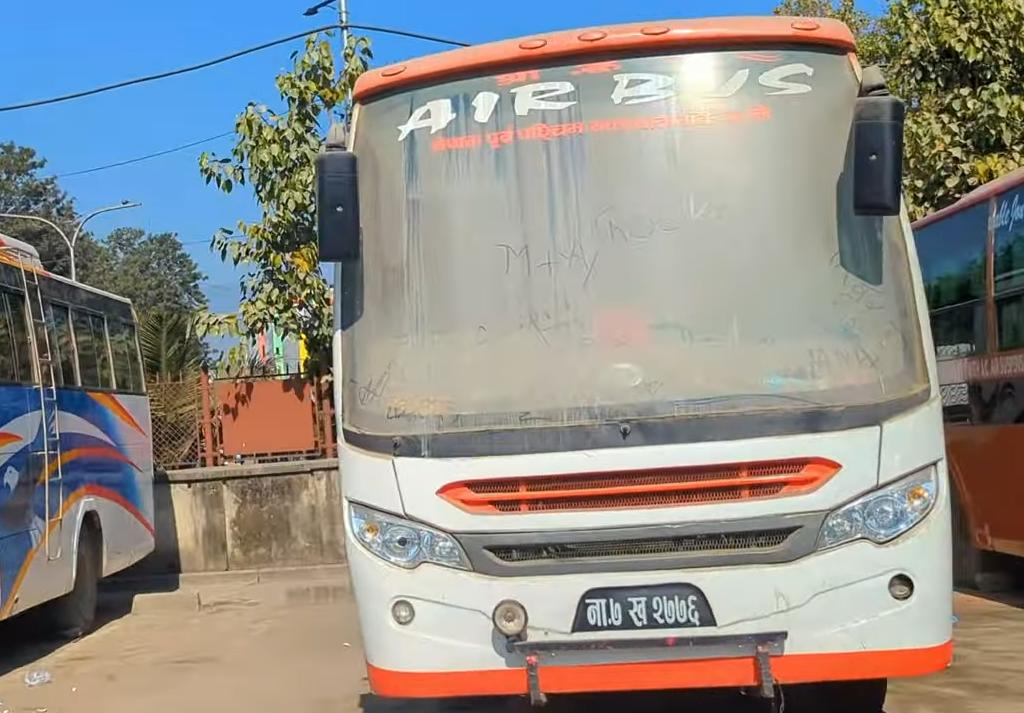bus: (306, 6, 969, 713)
